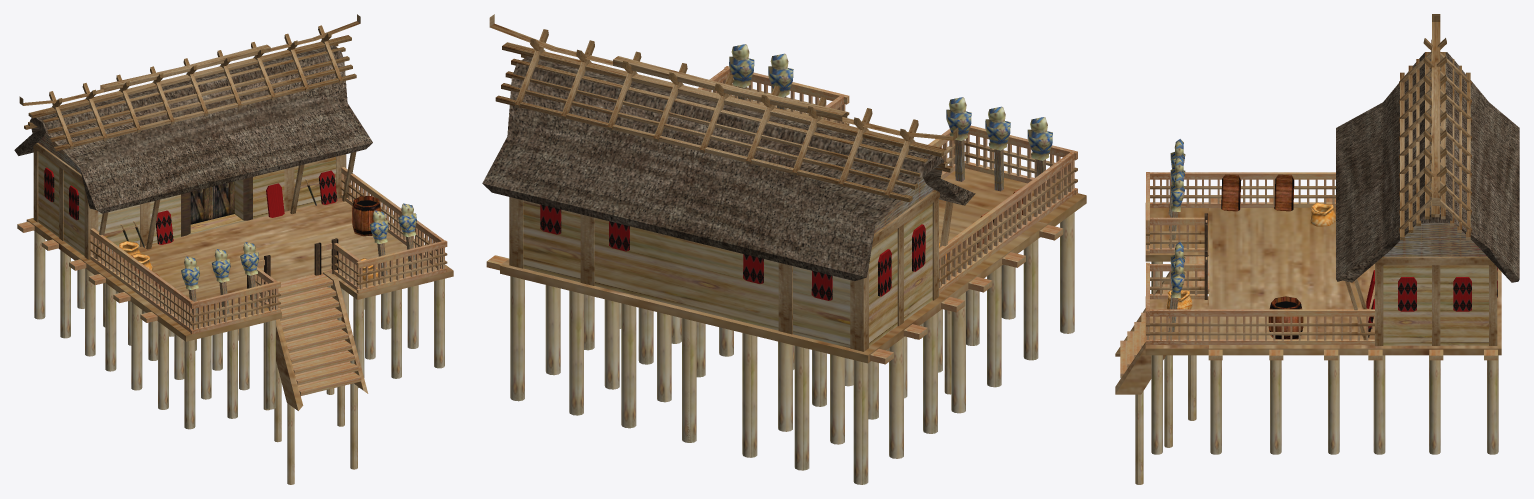
File: yayoi_barracks.dae
3 views of the same model, side by side, from view 1: azimuth 30°, elevation 25°; view 2: azimuth 150°, elevation 25°; view 3: azimuth 270°, elevation 25° (orthographic). The views are drawn at different scales.
Visible parts, largest first — view 1: barracks; view 2: barracks; view 3: barracks.
Part boxes in pixels (x1,y1,x2,y2): barracks: (14, 14, 453, 484); barracks: (482, 14, 1086, 484); barracks: (1115, 14, 1519, 484).
Bounding box in the file's own units: 23.72 × 22.04 × 21.65.
